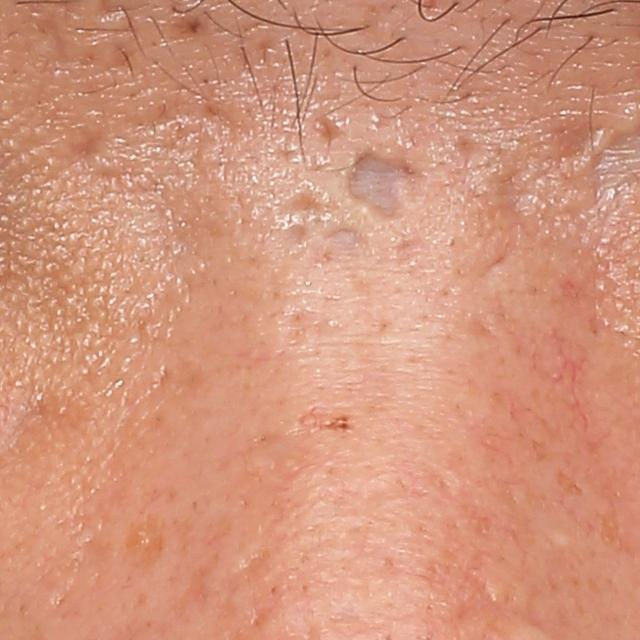atrophic_scar: (345, 140, 432, 226), (498, 164, 546, 226), (452, 571, 505, 621), (286, 185, 333, 222), (228, 540, 268, 578), (69, 128, 108, 164), (450, 134, 481, 169), (319, 111, 343, 150), (474, 314, 504, 344), (168, 14, 205, 37), (332, 225, 367, 246)
